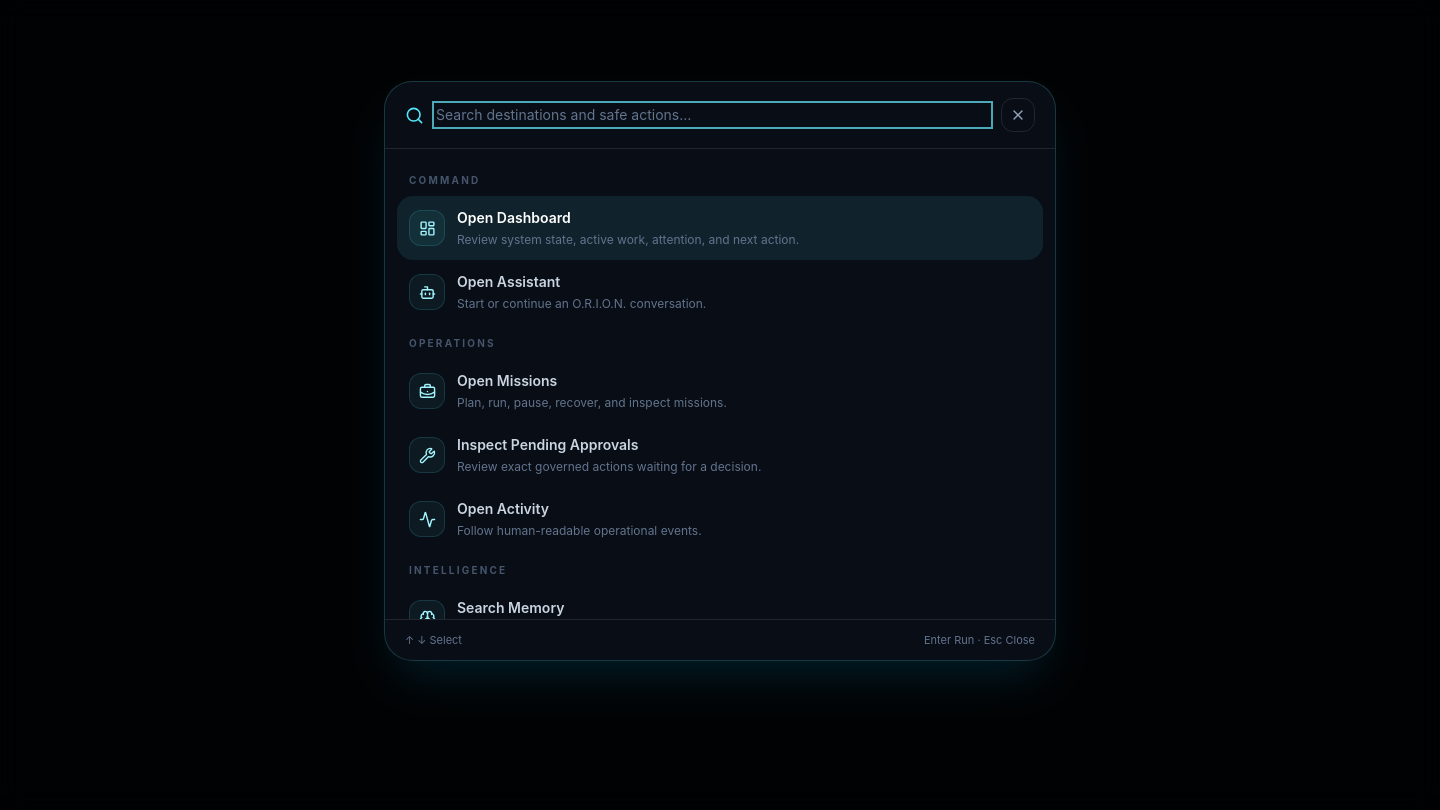
Test: CommandPalette › filters commands as the operator types
Type "browser research" into the field named "Search commands" at (712, 115), box [436,105,989,125]
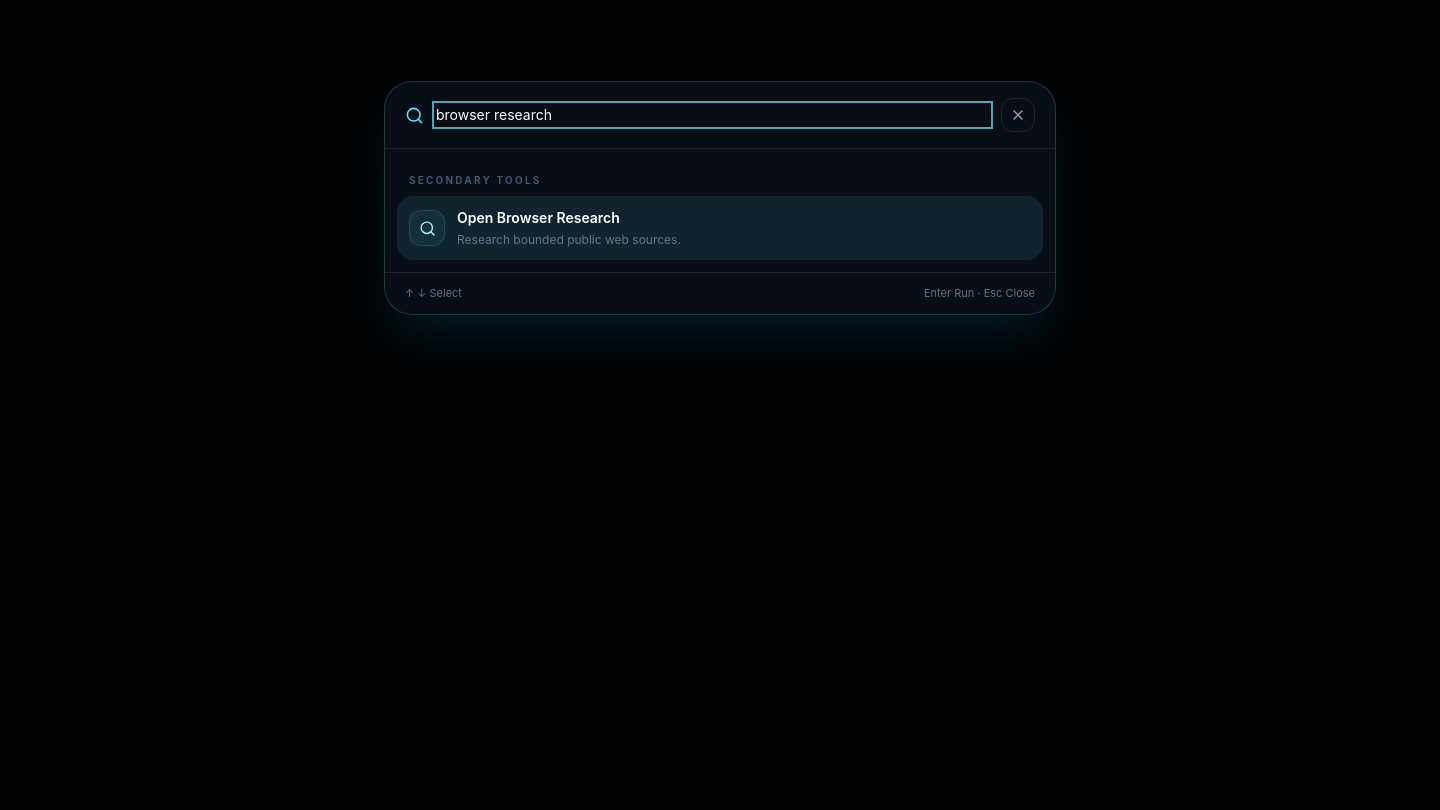
Check: the option "Open Browser Research Research bounded public web sources." is shown, box [397,196,1043,260]
Check: the option "Open Missions" is gone
